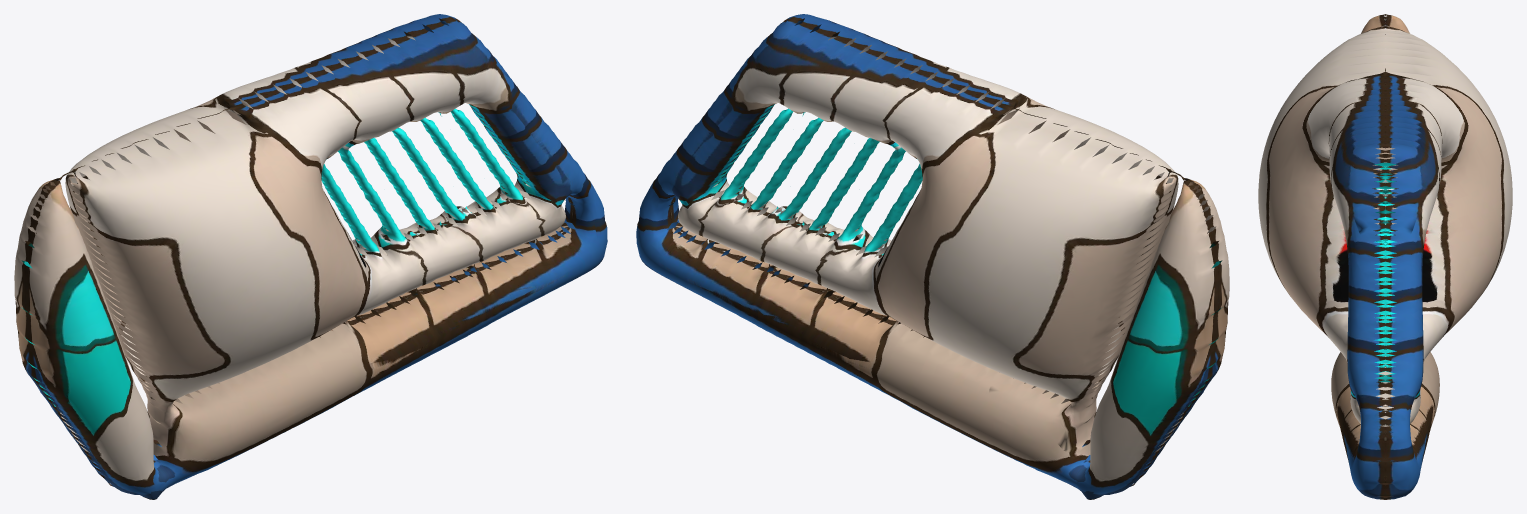
File: side_transfer_station.glb
The picture shows the model from 3 angles, left to right: view 1: azimuth 30°, elevation 25°; view 2: azimuth 150°, elevation 25°; view 3: azimuth 270°, elevation 25°; orthographic projection. The views are drawn at different scales.
Visible parts, largest first — view 1: side_transfer_station; view 2: side_transfer_station; view 3: side_transfer_station.
Boxes of the visible parts, x1,y1,x2,y2 form: side_transfer_station: [14, 14, 607, 499]; side_transfer_station: [636, 14, 1229, 499]; side_transfer_station: [1258, 14, 1512, 499].
Size of the model in its own units: 0.9888 by 0.6487 by 0.3675.
1 material, 1 textured.
